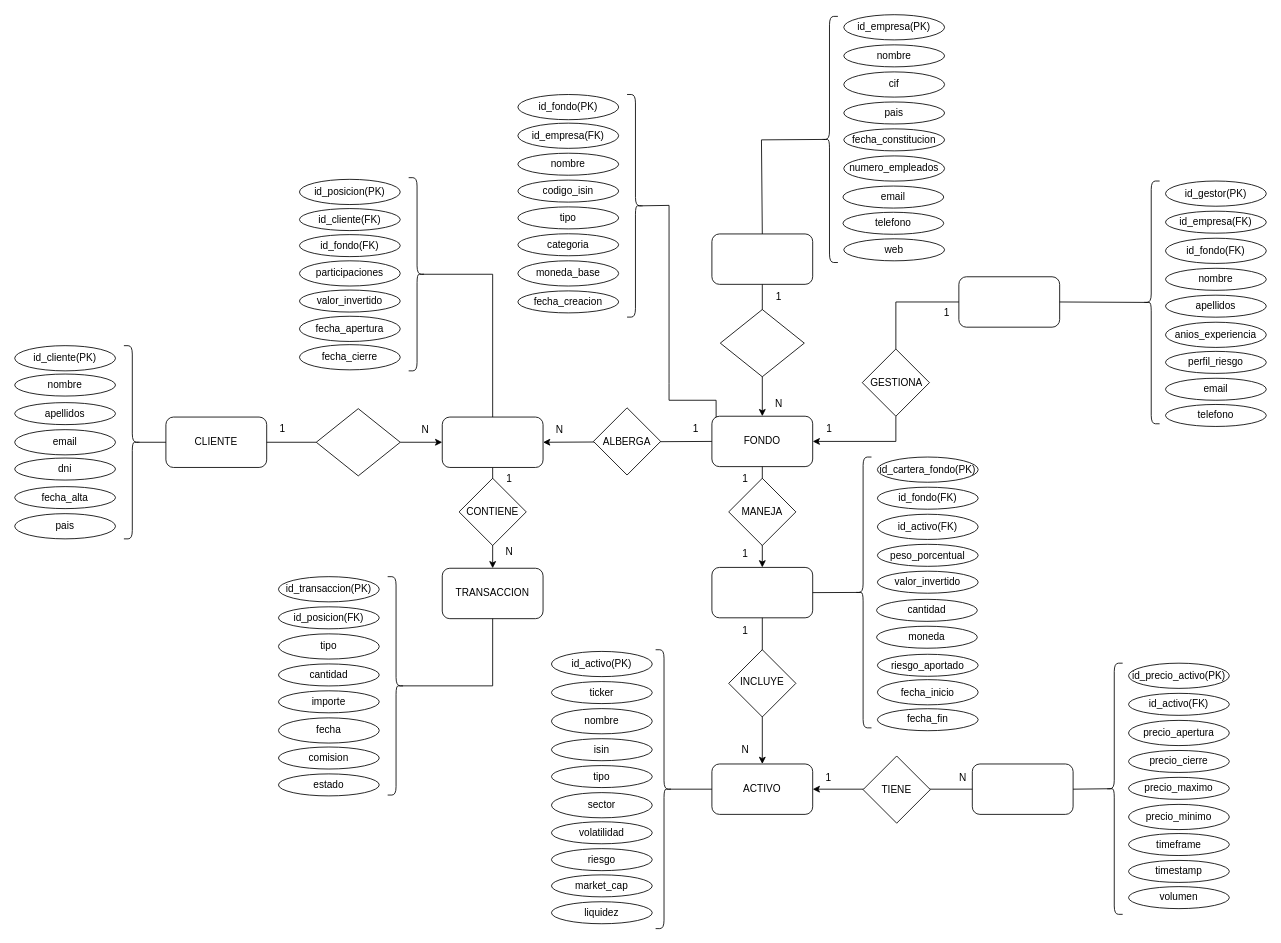
Some shapes in this 1281 by 943 pixel diagram are drawn without their labels. Each missing label, with the centre of its shape:
"ADMINISTRA" belongs at point (761, 343).
"CARTERA_FONDO" belongs at point (762, 592).
"EMPRESA STOCKMASTER" belongs at point (762, 258).
"GESTOR" belongs at point (1009, 301).
"PERTENECE" belongs at point (357, 442).
"POSICION" belongs at point (492, 441).
"PRECIO_ACTIVO" belongs at point (1022, 788).
